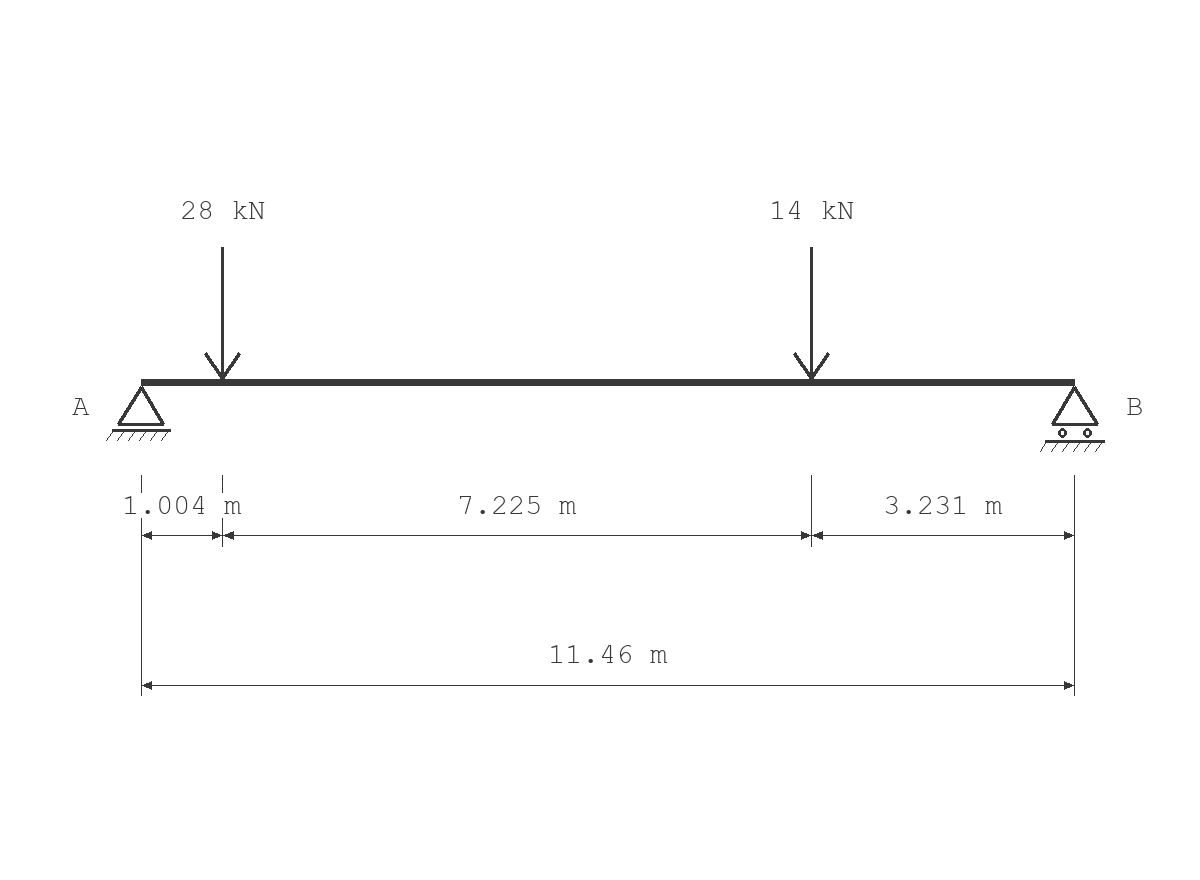pin_support: (106, 386, 171, 441)
point_load: (204, 247, 241, 380), (793, 247, 830, 380)
roller_support: (1040, 386, 1105, 452)
